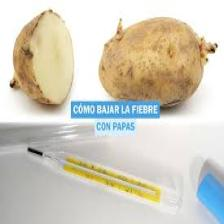Sprouted potato: (98, 14, 211, 112)
